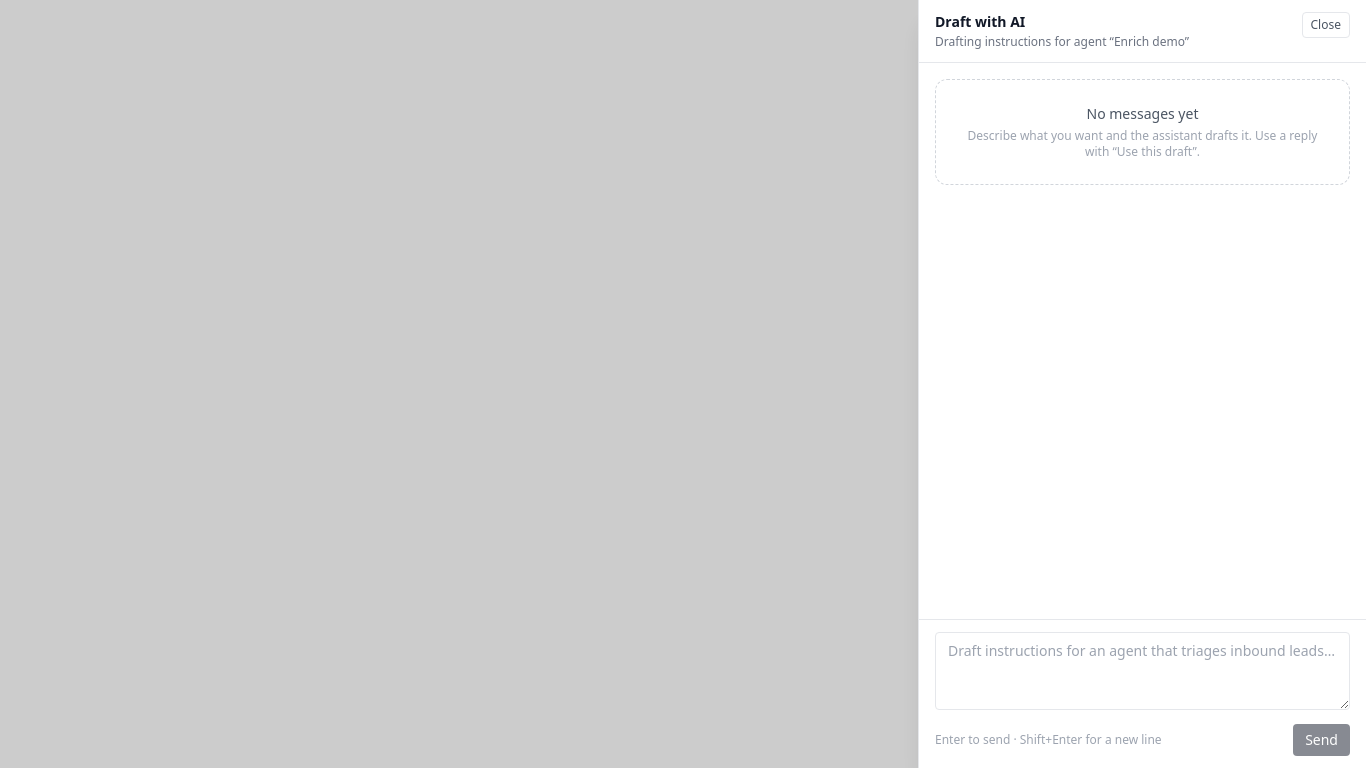
Test: AssistantDrawer › shows the 503 server detail exactly once and disables the input
Type "hello" into the text box named "Message".
click(1142, 671); type("hello")  # box [935,632,1350,710]
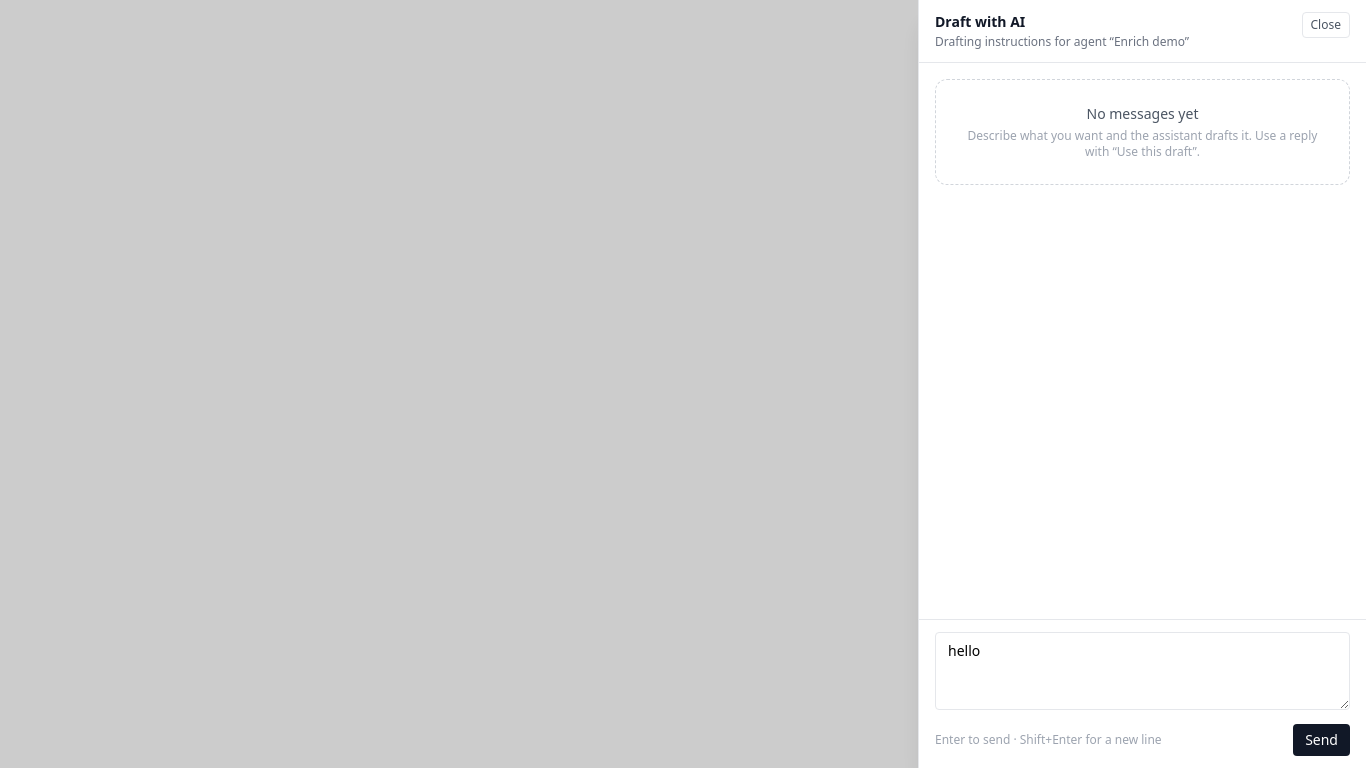
Click the button "Send".
click(1322, 740)  # box [1293,724,1350,756]
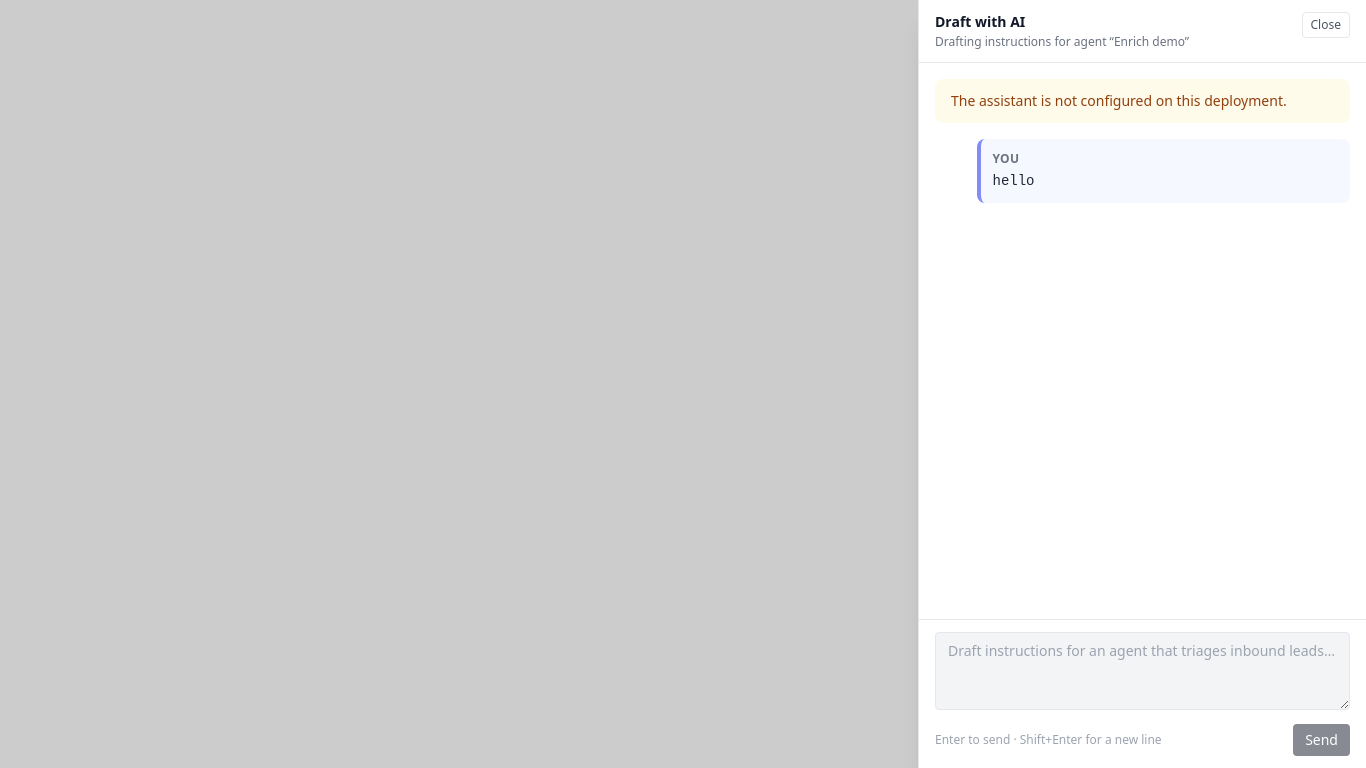
Check: the message reads "The assistant is not configured on this deployment.", box [951,91,1287,110]
Check: the text "The assistant is not configured on this deployment." is shown once, box [935,79,1350,123]
Check: the text box named "Message" is disabled, box [935,632,1350,710]
